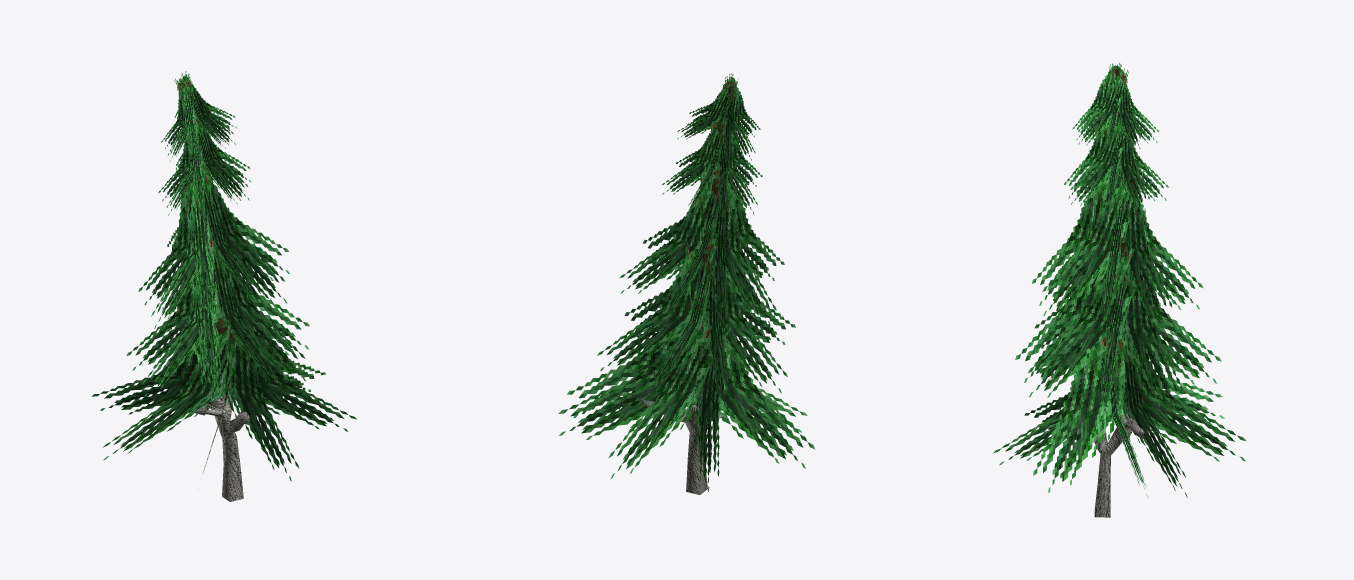
File: Tree2.fbx
The picture shows the model from 3 angles, left to right: view 1: azimuth 30°, elevation 25°; view 2: azimuth 150°, elevation 25°; view 3: azimuth 270°, elevation 25°; orthographic projection.
Parts seen in each view (by area): view 1: TreeUp.001, TreeeBottom.001; view 2: TreeUp.001, TreeeBottom.001; view 3: TreeUp.001, TreeeBottom.001.
Part boxes in pixels (bbox=[...]): TreeUp.001: bbox=[92, 71, 356, 481]; TreeeBottom.001: bbox=[222, 465, 243, 501]; TreeUp.001: bbox=[558, 73, 815, 491]; TreeeBottom.001: bbox=[686, 459, 707, 494]; TreeUp.001: bbox=[993, 63, 1246, 497]; TreeeBottom.001: bbox=[1094, 482, 1110, 517].
Size of the model in its own units: 1559 by 2062 by 1543.
